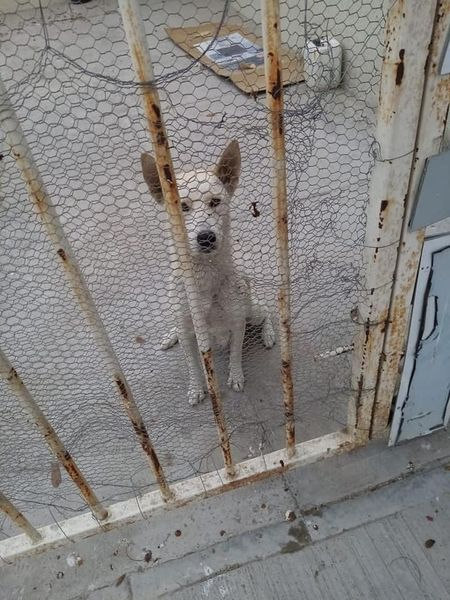dog: (136, 138, 289, 416)
